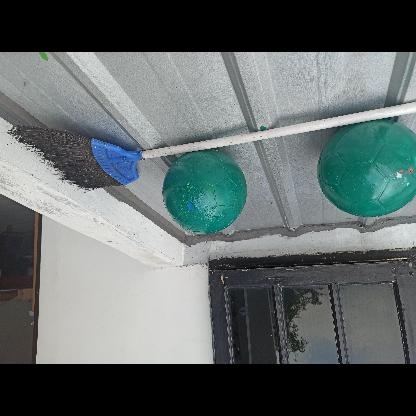green_ball: (320, 115, 415, 220), (162, 150, 248, 235)
